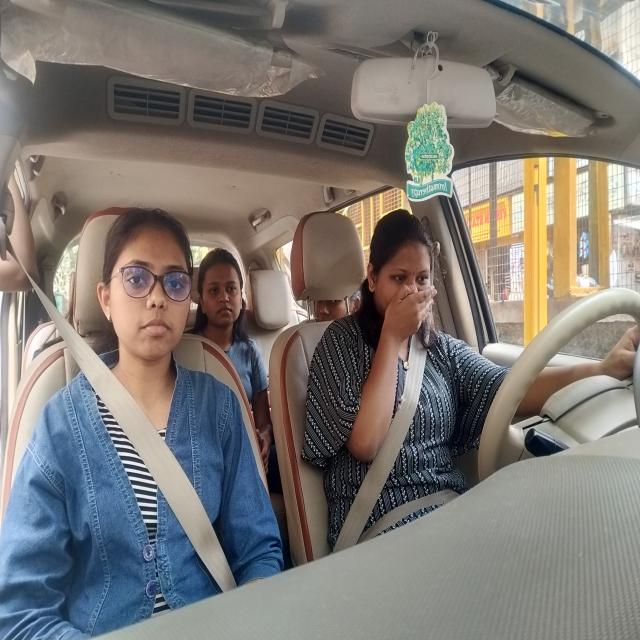drowsy: (363, 220, 447, 345)
person: (94, 218, 198, 364), (206, 248, 248, 338), (306, 299, 360, 323)
